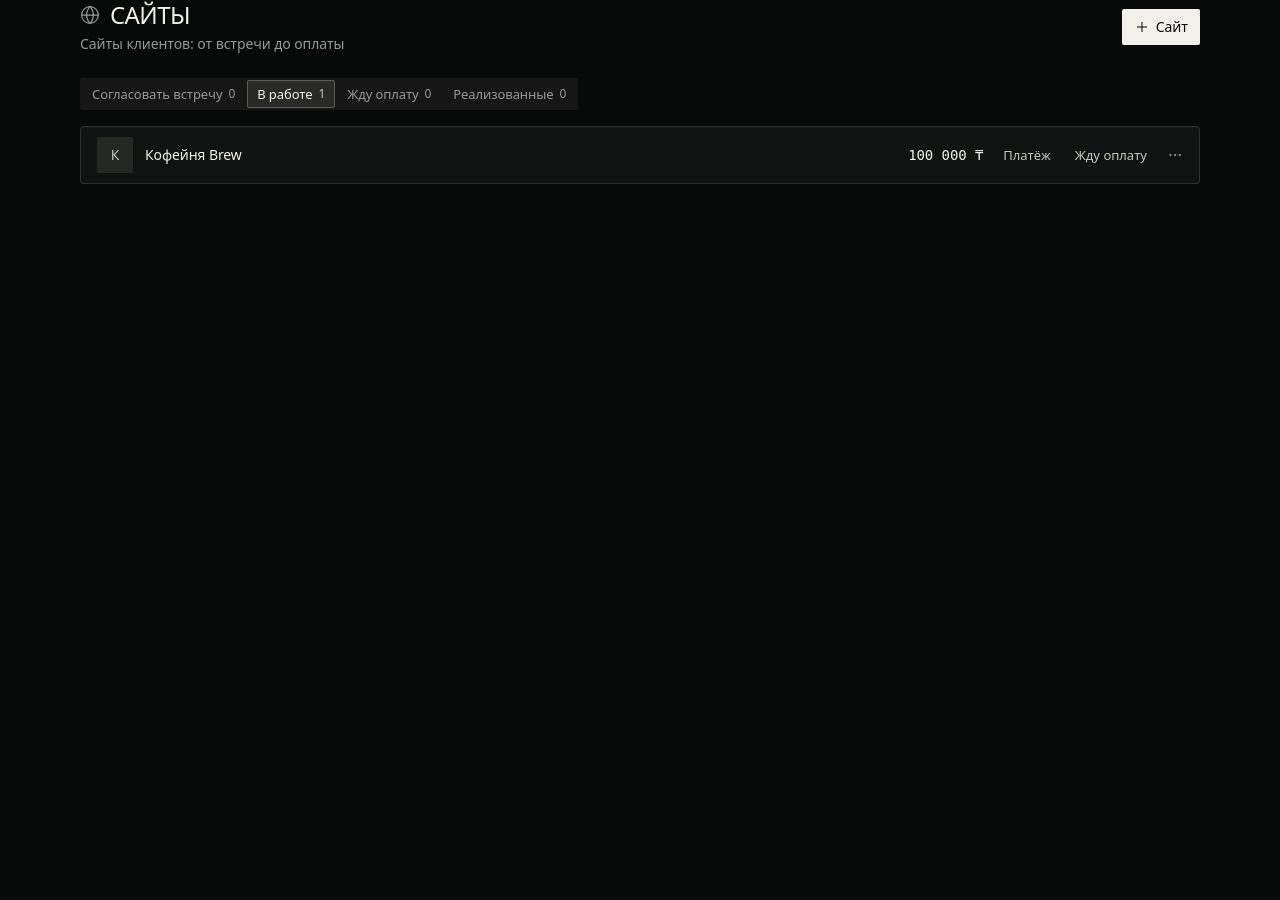
Test: SitesPage › платежи и остаток › does not accept a payment bigger than the rest, nor an unreadable sum
Click the button with aria-label "Записать платёж: Кофейня Brew": (1027, 155) [991, 139, 1063, 171]
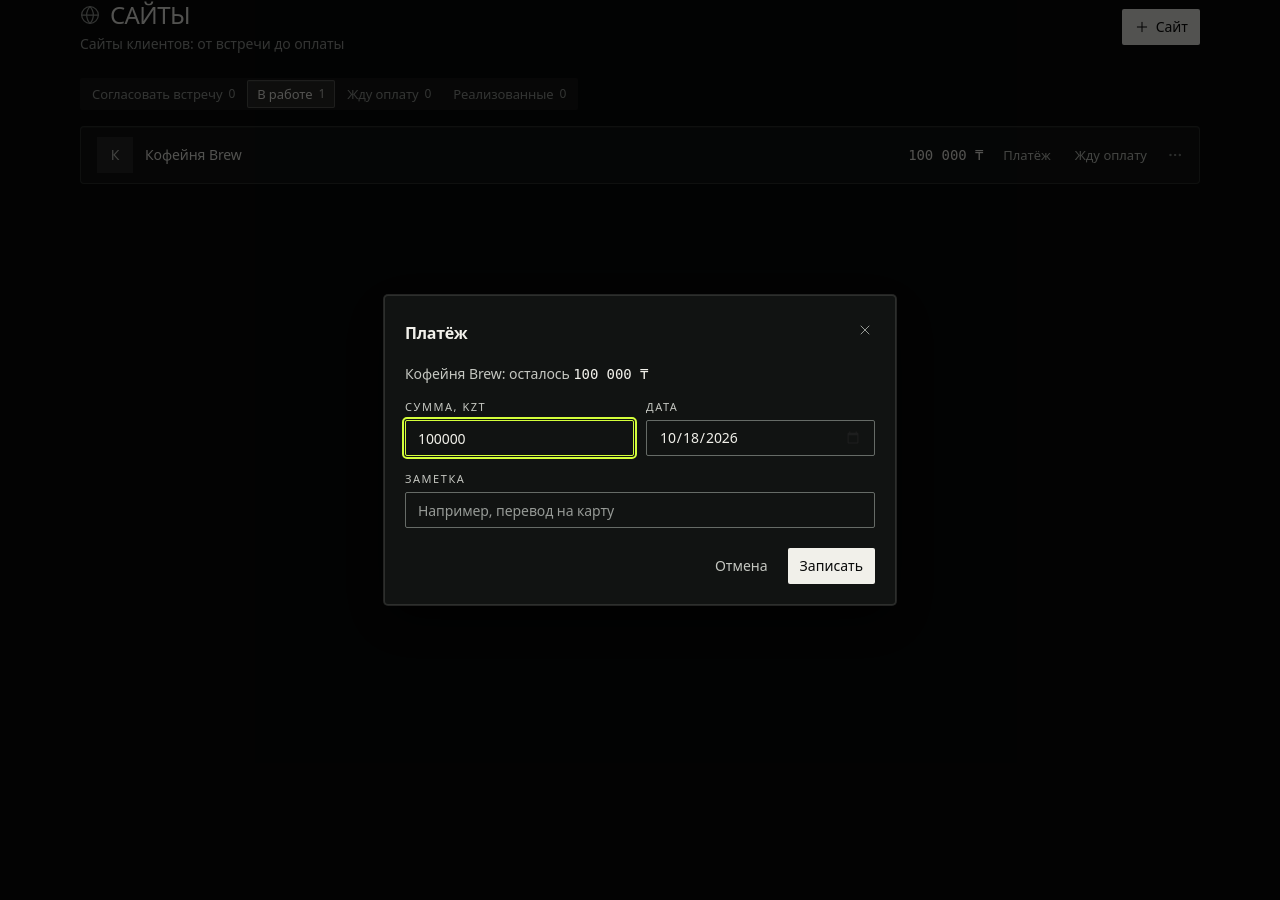
Replace the text in the field labelled "Сумма, KZT" with "150000": (520, 438) [405, 420, 634, 456]
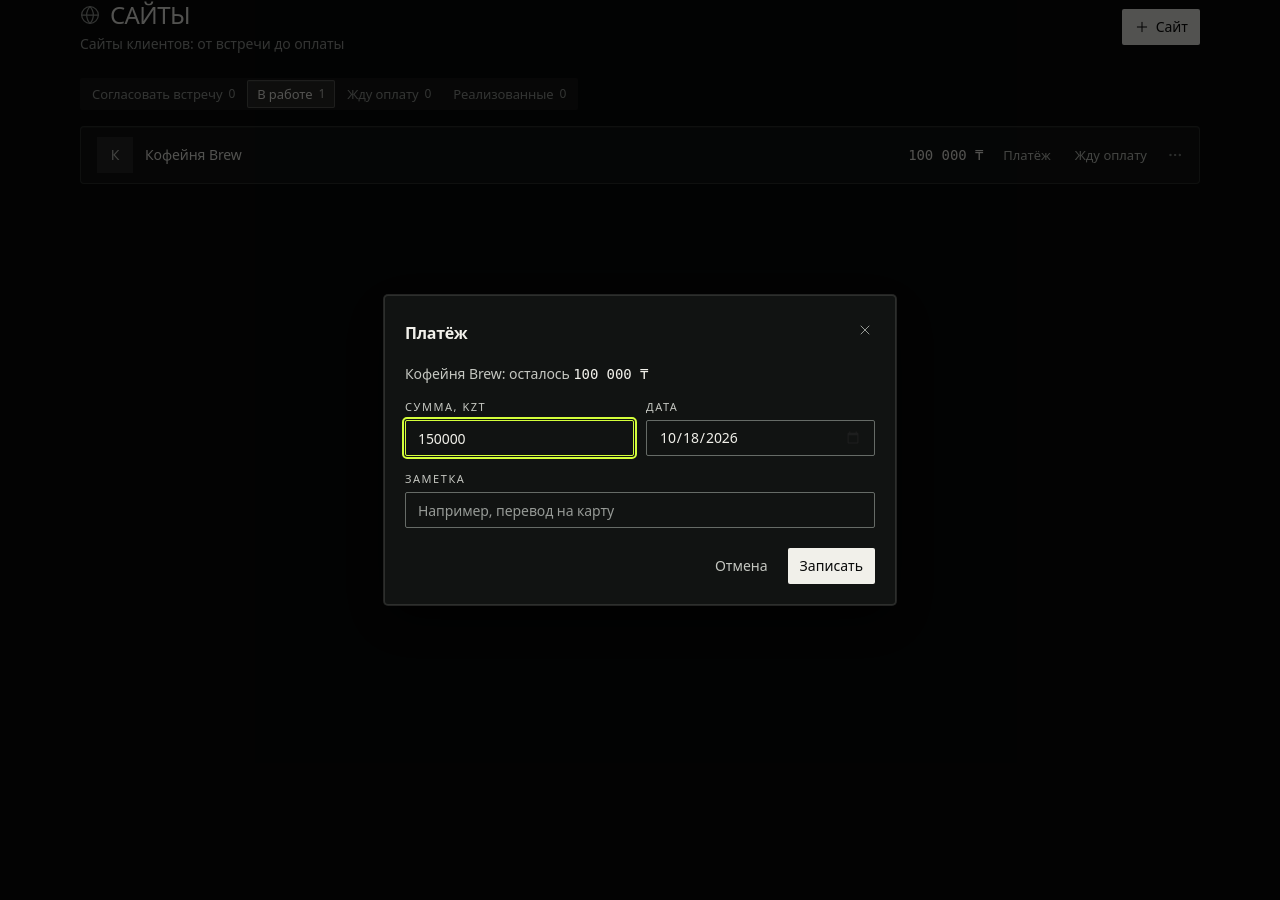
Click the button "Записать": (831, 566) [788, 548, 875, 584]
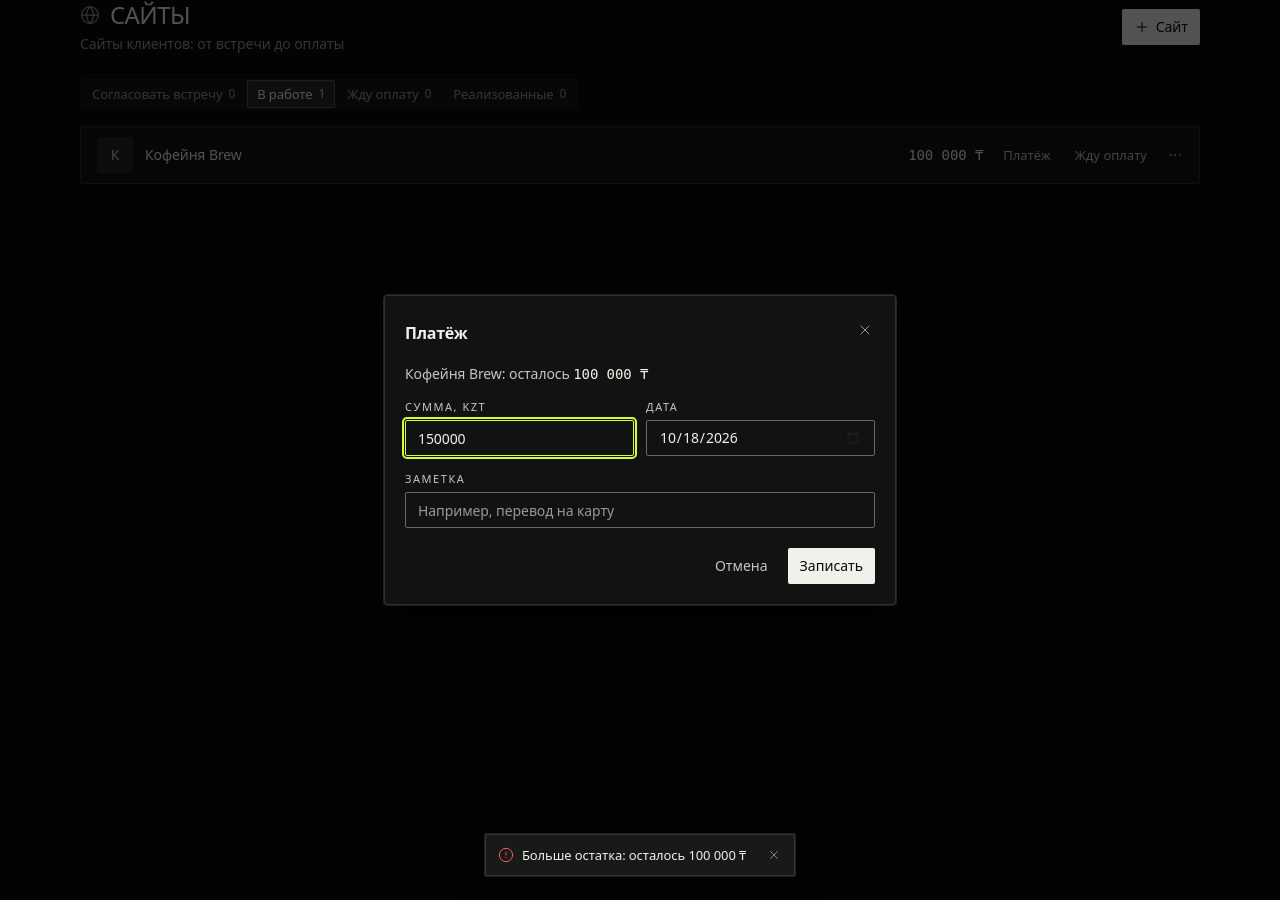
Expected: the text "Больше остатка: осталось 100 000 ₸" is shown, [522, 842, 750, 868]
Replace the text in the field labelled "Сумма, KZT" with "много": (520, 438) [405, 420, 634, 456]
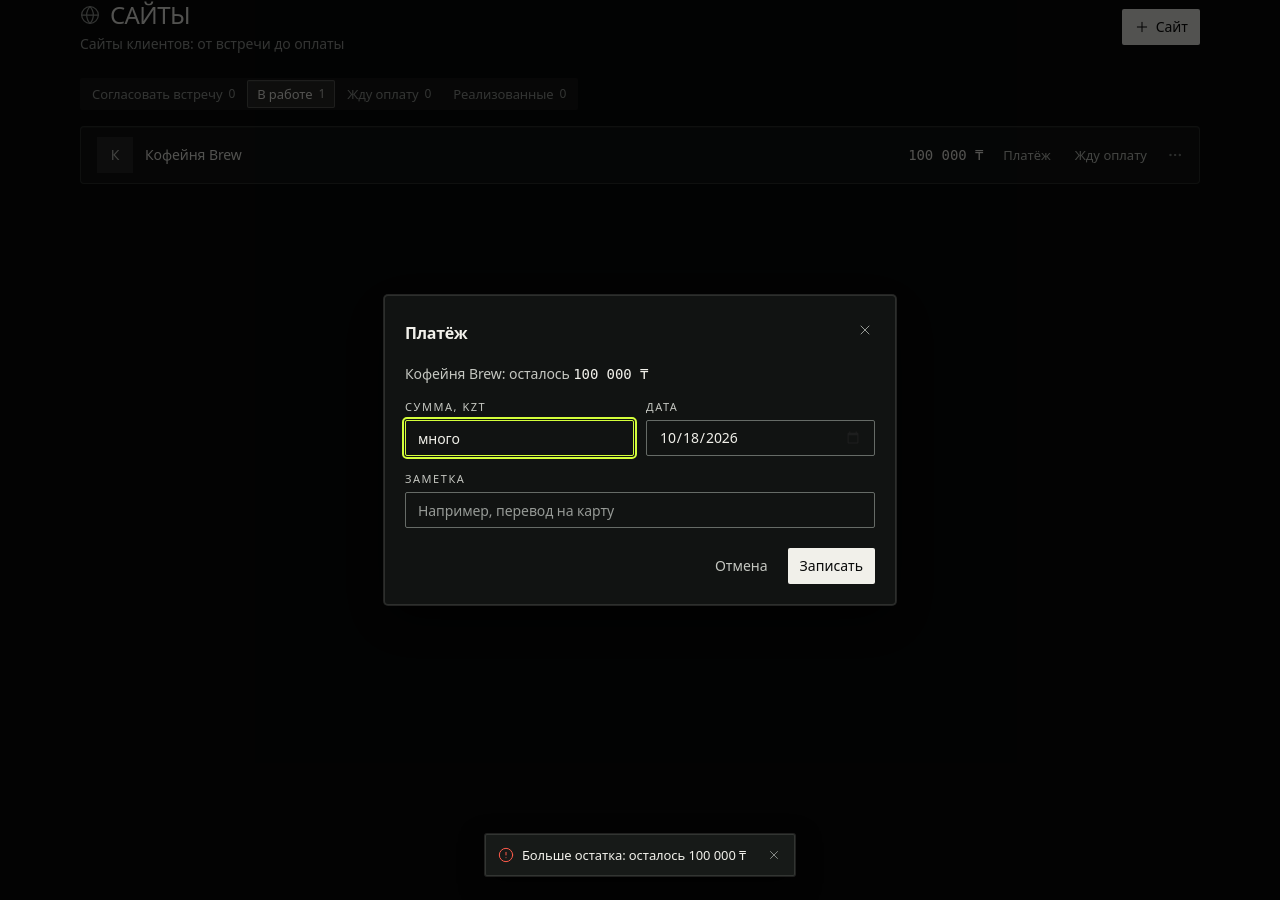
Click the button "Записать": (831, 566) [788, 548, 875, 584]
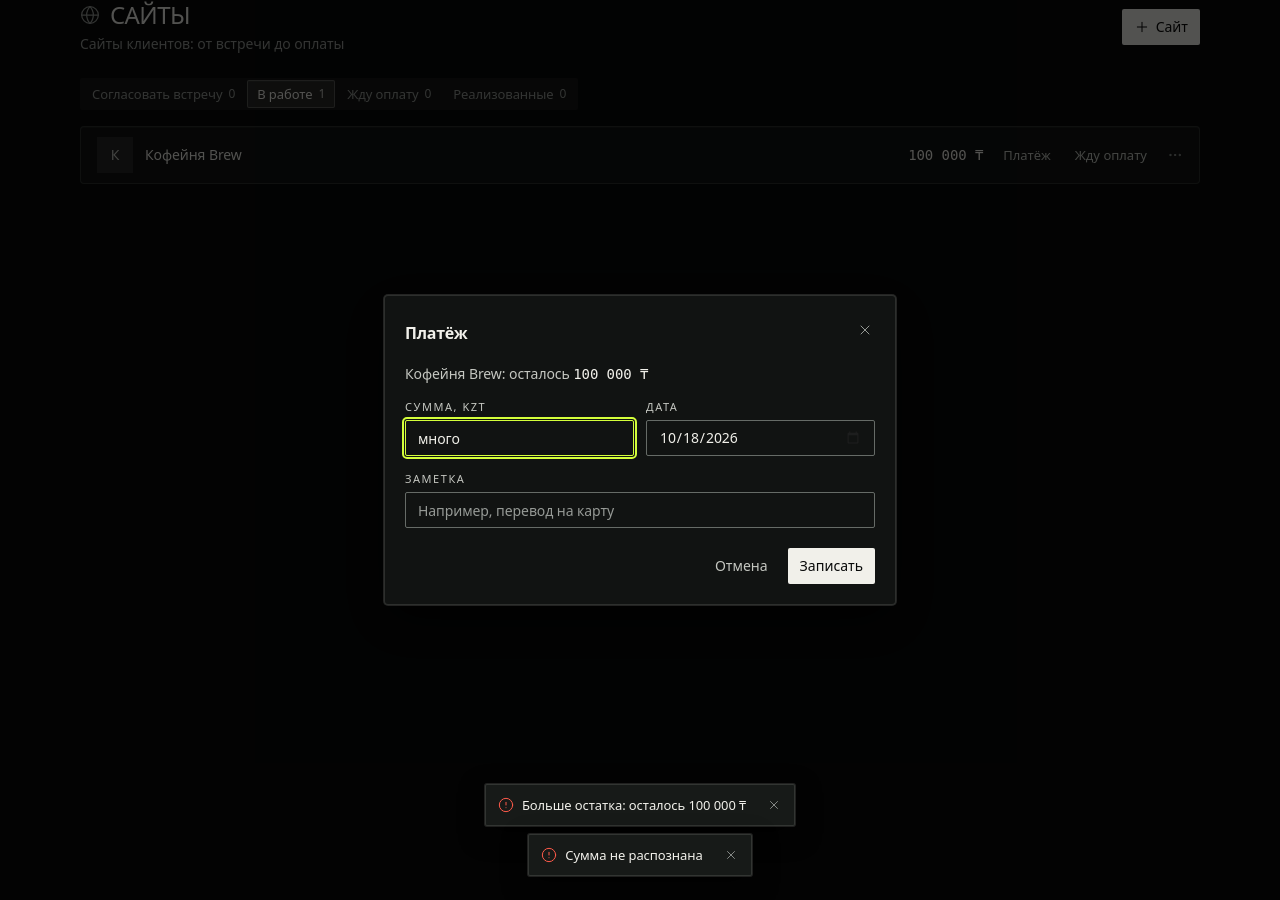
Expected: the text "Сумма не распознана" is shown, [565, 842, 707, 868]
